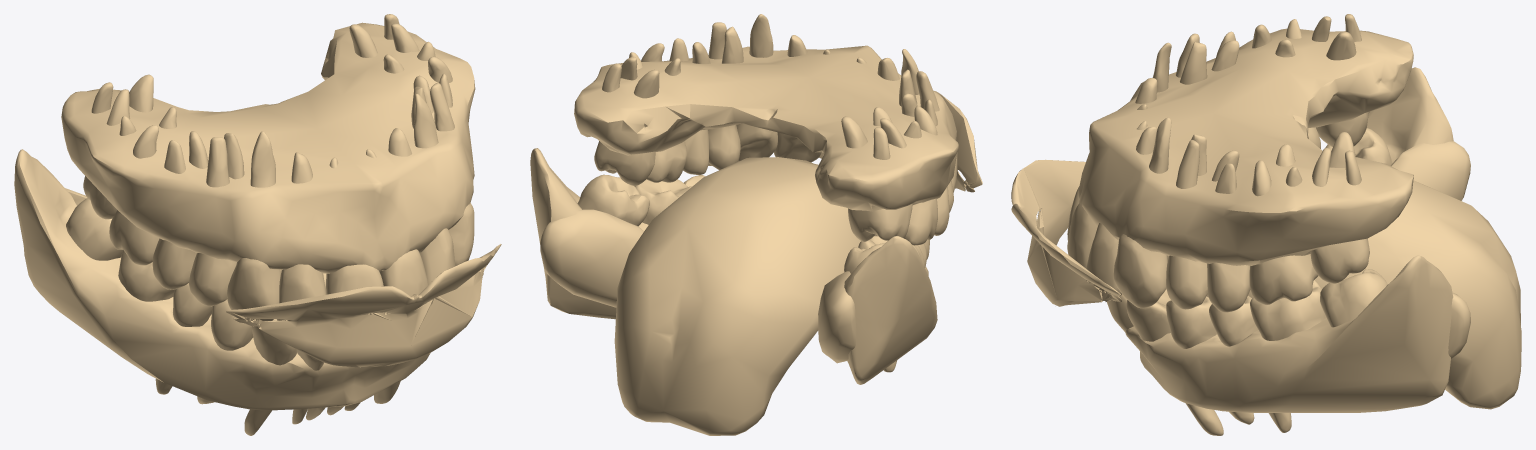
File: digestif-tete.hi.glb
3 renders of one model, left to right at view 1: azimuth 30°, elevation 25°; view 2: azimuth 150°, elevation 25°; view 3: azimuth 270°, elevation 25°, orthographic. The views are drawn at different scales.
Visible parts, largest first — view 1: FJ1252, FJ1253, FJ2814, FJ1277, FJ1281, FJ1278, FJ1276, FJ1275, FJ1270, FJ1280, FJ1267, FJ1266 (+10 smaller); view 2: FJ2761, FJ1252, FJ1253, FJ2766, FJ1275, FJ1263, FJ2768, FJ1262, FJ1256, FJ1267, FJ1276, FJ1261 (+8 smaller); view 3: FJ1252, FJ1253, FJ2761, FJ2814, FJ1261, FJ1267, FJ1263, FJ1262, FJ2768, FJ1264, FJ1254, FJ1256 (+13 smaller).
Boxes of the visible parts, x1,y1,x2,y2 form: FJ1252: (61,22,475,273); FJ1253: (14,149,430,410); FJ2814: (226,244,501,367); FJ1277: (189,133,244,306); FJ1281: (227,131,280,326); FJ1278: (152,131,208,289); FJ1276: (109,107,176,265); FJ1275: (83,74,153,219); FJ1270: (66,198,122,260); FJ1280: (276,152,326,320); FJ1267: (414,93,474,265); FJ1266: (388,128,455,284); FJ2761: (614,157,860,435); FJ1252: (574,45,958,211); FJ1253: (530,148,937,384); FJ2766: (540,209,643,307); FJ1275: (841,116,912,241); FJ1263: (594,57,659,185); FJ2768: (818,271,856,363); FJ1262: (708,22,743,170); FJ1256: (577,174,649,226); FJ1267: (736,14,777,161); FJ1276: (873,106,937,245); FJ1261: (629,43,686,182); FJ1252: (1078,28,1413,265); FJ1253: (1125,67,1453,412); FJ2761: (1167,180,1521,409); FJ2814: (1011,159,1121,306); FJ1261: (1249,144,1318,304); FJ1267: (1113,117,1171,308); FJ1263: (1310,132,1369,283); FJ1262: (1166,134,1207,309); FJ2768: (1391,141,1470,200); FJ1264: (1207,150,1250,312); FJ1254: (1250,280,1326,340); FJ1256: (1320,269,1387,327).
Size of the model in its own units: 0.0753 by 0.0574 by 0.0819.
